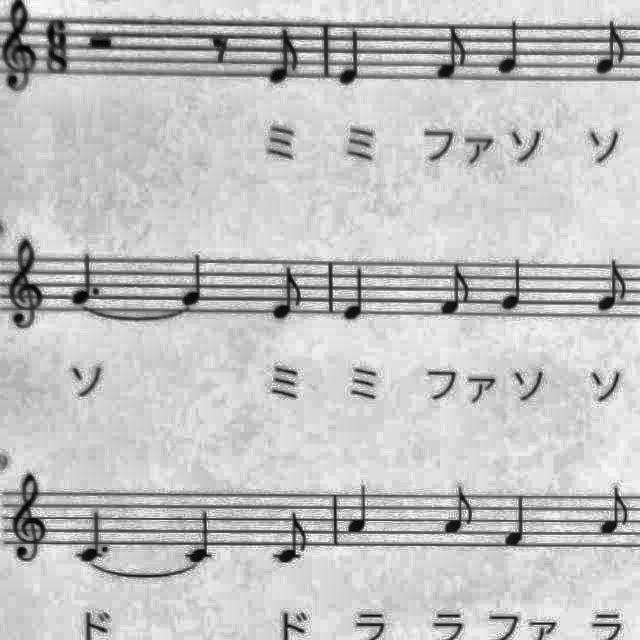Eighth-note: (266, 260, 310, 326), (262, 24, 306, 90), (429, 20, 471, 86), (591, 18, 633, 82), (270, 510, 314, 570), (593, 255, 635, 317), (436, 259, 476, 321), (594, 483, 636, 541), (438, 483, 478, 541), (40, 12, 76, 76)
Eighth-rest: (204, 26, 236, 68)
Half-rest: (82, 15, 118, 52)
Quarter-dot: (66, 247, 110, 309), (74, 504, 118, 564)
Quarter-note: (492, 14, 532, 80), (335, 24, 373, 92), (337, 260, 375, 324), (495, 254, 533, 316), (177, 250, 215, 310), (182, 508, 222, 564), (500, 490, 534, 552), (344, 483, 376, 539)
Treble-clef: (0, 232, 50, 336), (0, 468, 52, 565), (0, 0, 39, 92)
